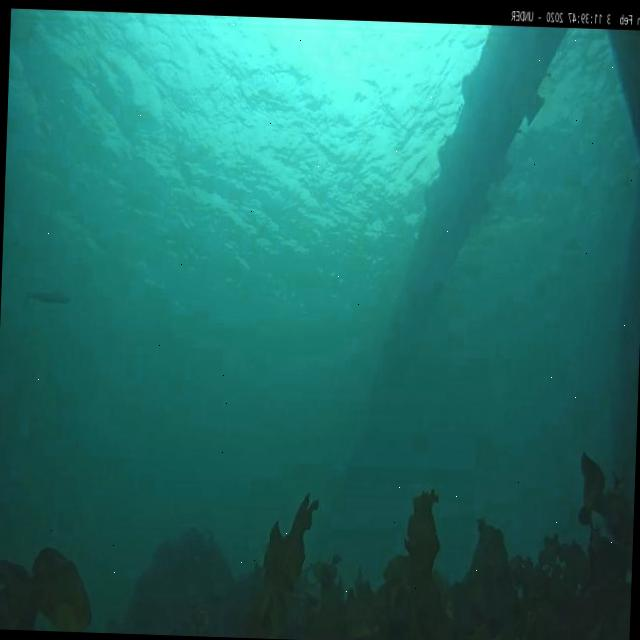fish: (20, 283, 71, 317)
